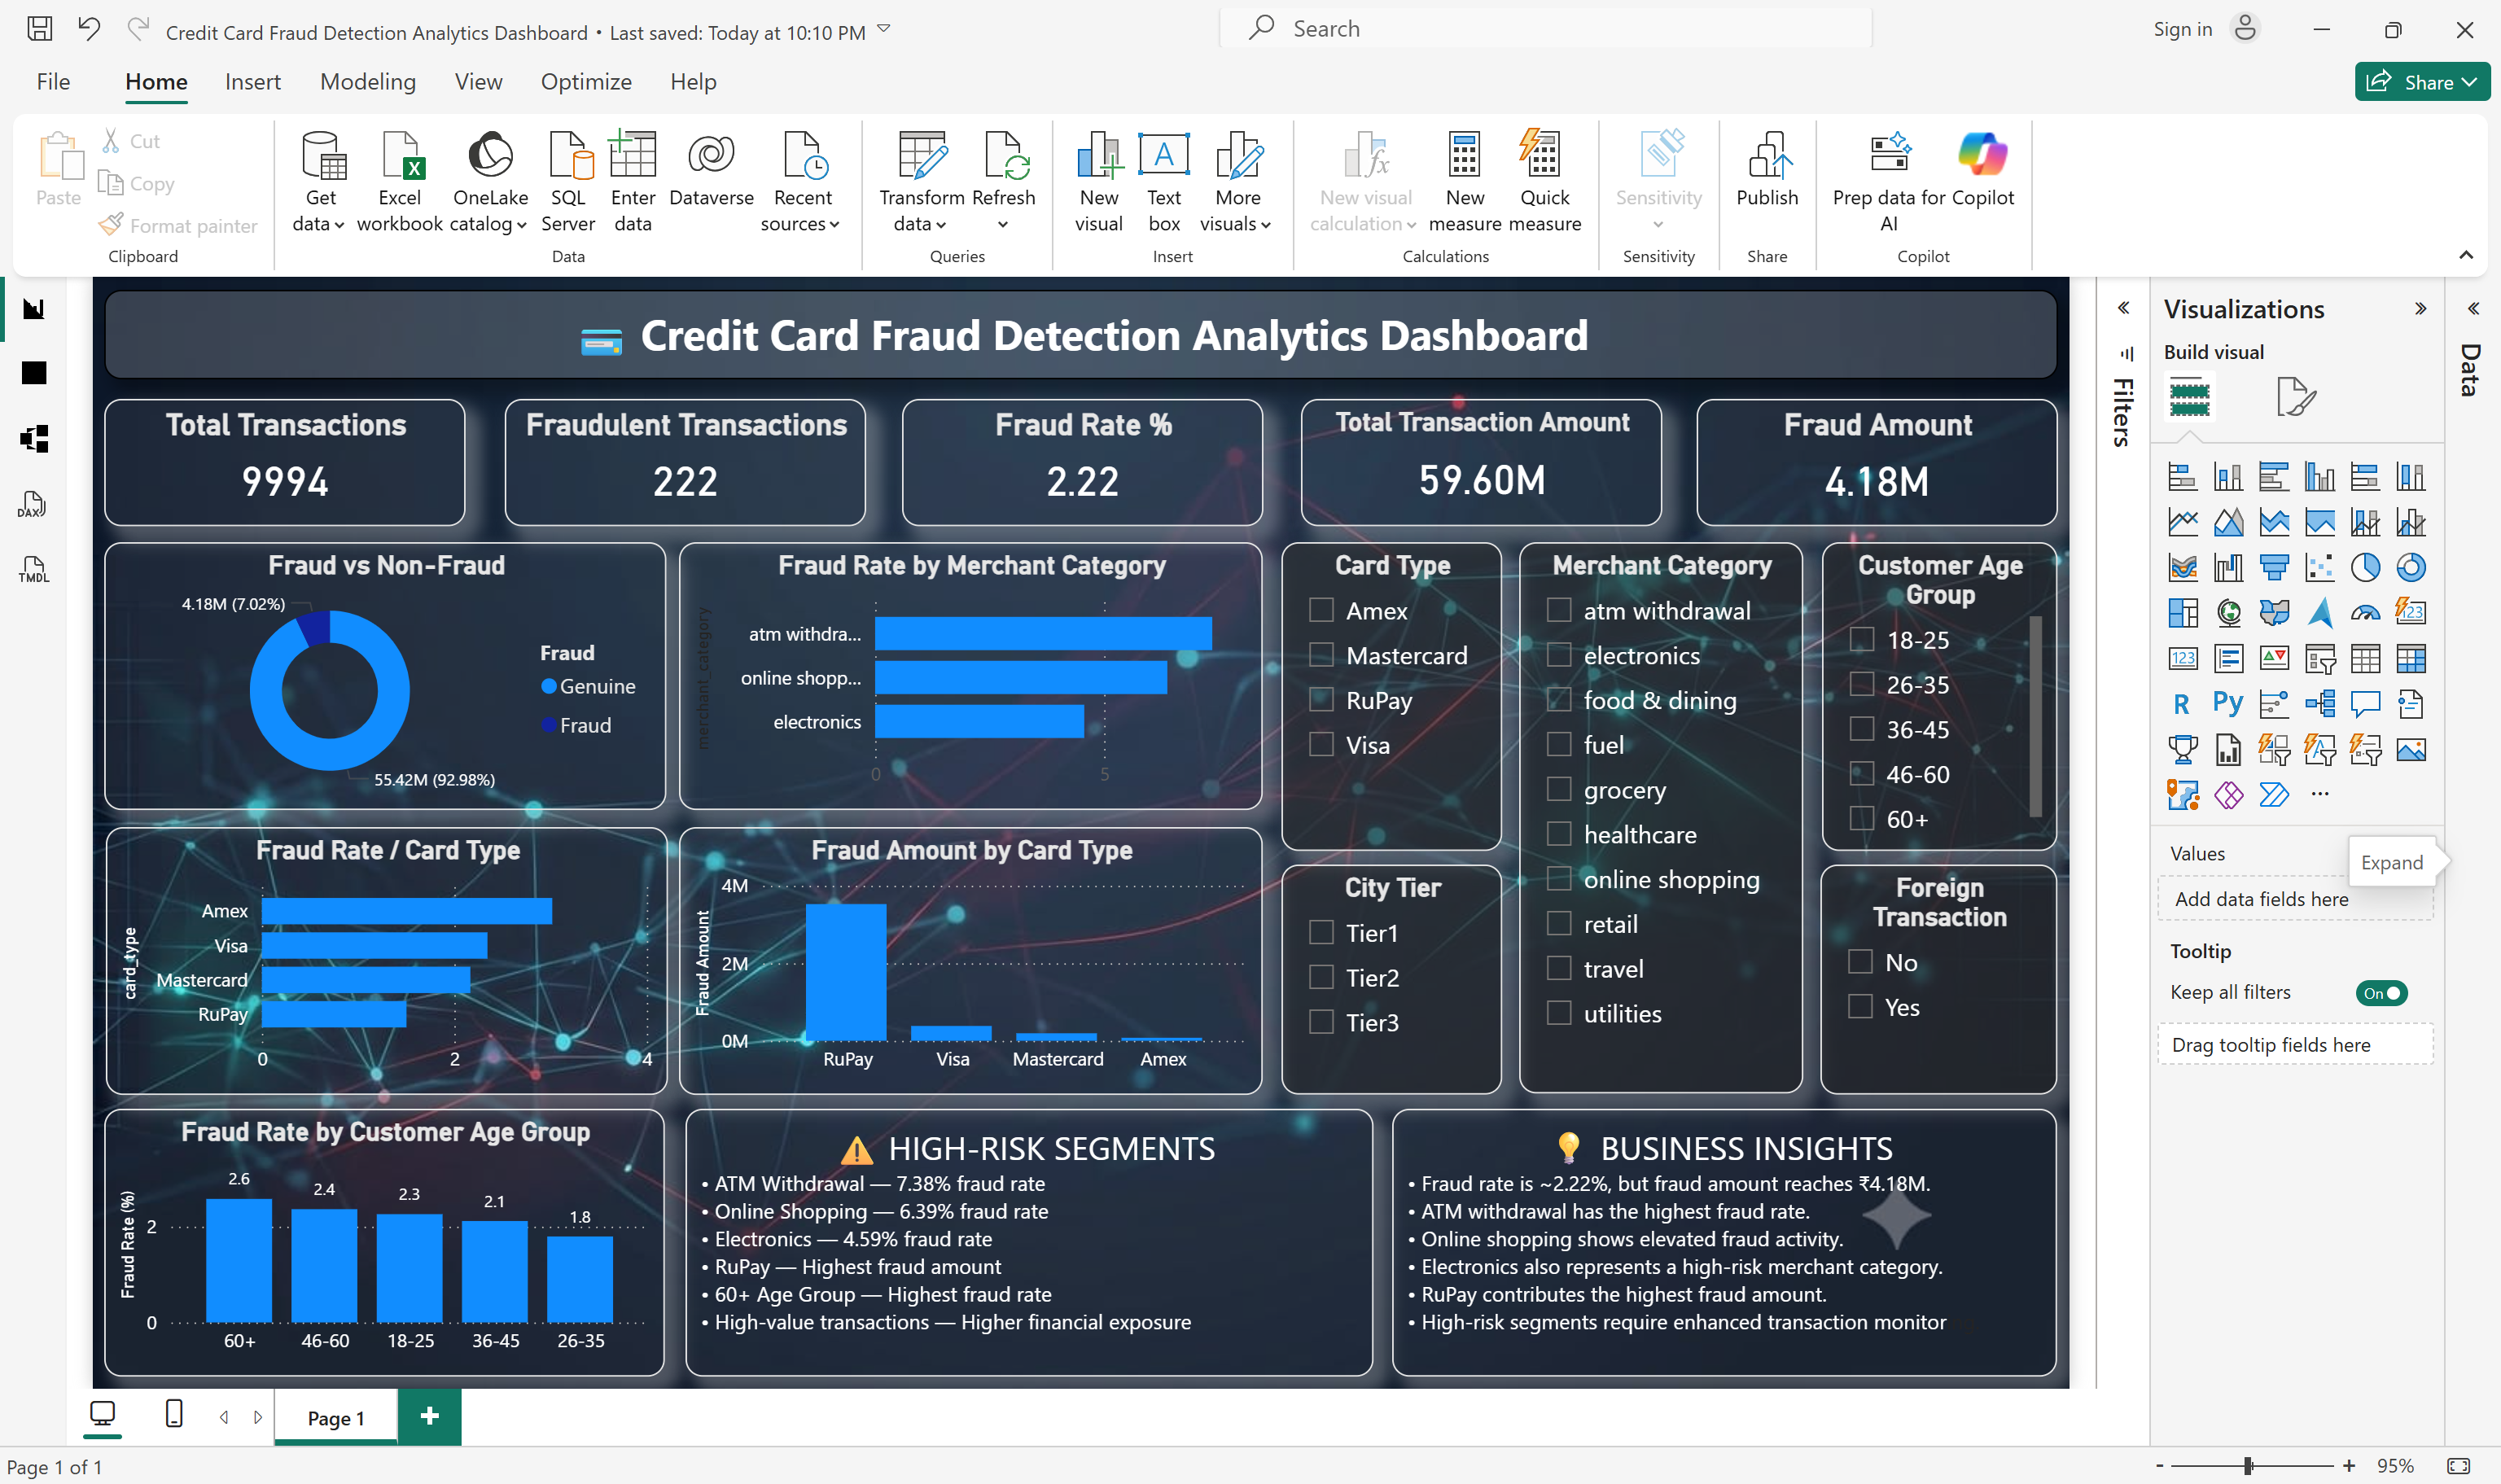

The dashboard page shown, as its layout file describes it:
{"tool":"powerbi","page":{"name":"Page 1","canvas":[1280,720],"ordinal":0},"visuals":[{"type":"textbox","box":[7.4,8.4,1265,58],"z":0},{"type":"card","title":"Total Transactions","fields":{"Values":["credit_card_fraud_cleaned.Total Transactions"]},"box":[7,79.1,233.9,82.6],"z":1000},{"type":"card","title":"Fraudulent Transactions","fields":{"Values":["Sum(credit_card_fraud_cleaned.Class)"]},"box":[266.5,79.1,233.9,82.6],"z":2000},{"type":"card","title":"Fraud Rate %","fields":{"Values":["credit_card_fraud_cleaned.Fraud Rate (%)"]},"box":[523.6,79.1,233.9,82.6],"z":3000},{"type":"card","title":"Total Transaction Amount","fields":{"Values":["Sum(credit_card_fraud_cleaned.amount_inr)"]},"box":[782,79.1,233.9,82.6],"z":4000},{"type":"card","title":"Fraud Amount","fields":{"Values":["credit_card_fraud_cleaned.Fraud Amount"]},"box":[1038,79.1,233.9,82.6],"z":5000},{"type":"donutChart","title":"Fraud vs Non-Fraud ","fields":{"Y":["Sum(credit_card_fraud_cleaned.amount_inr)"],"Category":["credit_card_fraud_cleaned.Transaction Status"]},"box":[7,172.2,364.2,173.4],"z":6000},{"type":"barChart","title":"Fraud Rate by Merchant Category ","fields":{"Category":["credit_card_fraud_cleaned.merchant_category"],"Y":["credit_card_fraud_cleaned.Fraud Rate (%)"]},"box":[379.3,172.2,378.2,173.4],"z":7000},{"type":"barChart","title":"Fraud Rate  / Card Type","fields":{"Category":["credit_card_fraud_cleaned.card_type"],"Y":["credit_card_fraud_cleaned.Fraud Rate (%)"]},"box":[8.1,356.1,364.2,173.4],"z":8000},{"type":"columnChart","title":"Fraud Rate by Customer Age Group","fields":{"Y":["credit_card_fraud_cleaned.Fraud Rate (%)"],"Category":["credit_card_fraud_cleaned.customer_age_group"]},"box":[7,538.8,363.1,173.4],"z":9000},{"type":"slicer","title":"Merchant Category","fields":{"Values":["credit_card_fraud_cleaned.merchant_category"]},"box":[923.9,172.2,183.9,357.2],"z":10000},{"type":"slicer","title":"Card Type","fields":{"Values":["credit_card_fraud_cleaned.card_type"]},"box":[769.2,172.2,143.1,200.1],"z":11000},{"type":"slicer","title":"City Tier","fields":{"Values":["credit_card_fraud_cleaned.city_tier"]},"box":[769.2,380.5,143.1,148.9],"z":12000},{"type":"slicer","title":"Customer Age Group","fields":{"Values":["credit_card_fraud_cleaned.customer_age_group"]},"box":[1119.4,172.2,152.4,200.1],"z":13000},{"type":"slicer","title":"Foreign Transaction","fields":{"Values":["credit_card_fraud_cleaned.Foreign Transaction Status"]},"box":[1118.3,380.5,153.6,148.9],"z":14000},{"type":"columnChart","title":"Fraud Amount by Card Type","fields":{"Category":["credit_card_fraud_cleaned.card_type"],"Y":["credit_card_fraud_cleaned.Fraud Amount"]},"box":[379.3,356.1,378.2,173.4],"z":15000},{"type":"textbox","box":[841.3,538.8,430.5,173.4],"z":16000},{"type":"textbox","box":[384,538.8,445.7,173.4],"z":17000}]}

Visuals, with their boxes on the page's 1280x720 design canvas (x1, y1, x2, y2). These are canvas units, not pixel positions in the 2501x1484 screenshot, which may show the page scaled, cropped or inside an application window:
textbox: x1=7 y1=8 x2=1272 y2=66
"Total Transactions" card: x1=7 y1=79 x2=241 y2=162
"Fraudulent Transactions" card: x1=266 y1=79 x2=500 y2=162
"Fraud Rate %" card: x1=524 y1=79 x2=758 y2=162
"Total Transaction Amount" card: x1=782 y1=79 x2=1016 y2=162
"Fraud Amount" card: x1=1038 y1=79 x2=1272 y2=162
"Fraud vs Non-Fraud " donutChart: x1=7 y1=172 x2=371 y2=346
"Fraud Rate by Merchant Category " barChart: x1=379 y1=172 x2=758 y2=346
"Fraud Rate  / Card Type" barChart: x1=8 y1=356 x2=372 y2=530
"Fraud Rate by Customer Age Group" columnChart: x1=7 y1=539 x2=370 y2=712
"Merchant Category" slicer: x1=924 y1=172 x2=1108 y2=529
"Card Type" slicer: x1=769 y1=172 x2=912 y2=372
"City Tier" slicer: x1=769 y1=380 x2=912 y2=529
"Customer Age Group" slicer: x1=1119 y1=172 x2=1272 y2=372
"Foreign Transaction" slicer: x1=1118 y1=380 x2=1272 y2=529
"Fraud Amount by Card Type" columnChart: x1=379 y1=356 x2=758 y2=530
textbox: x1=841 y1=539 x2=1272 y2=712
textbox: x1=384 y1=539 x2=830 y2=712
